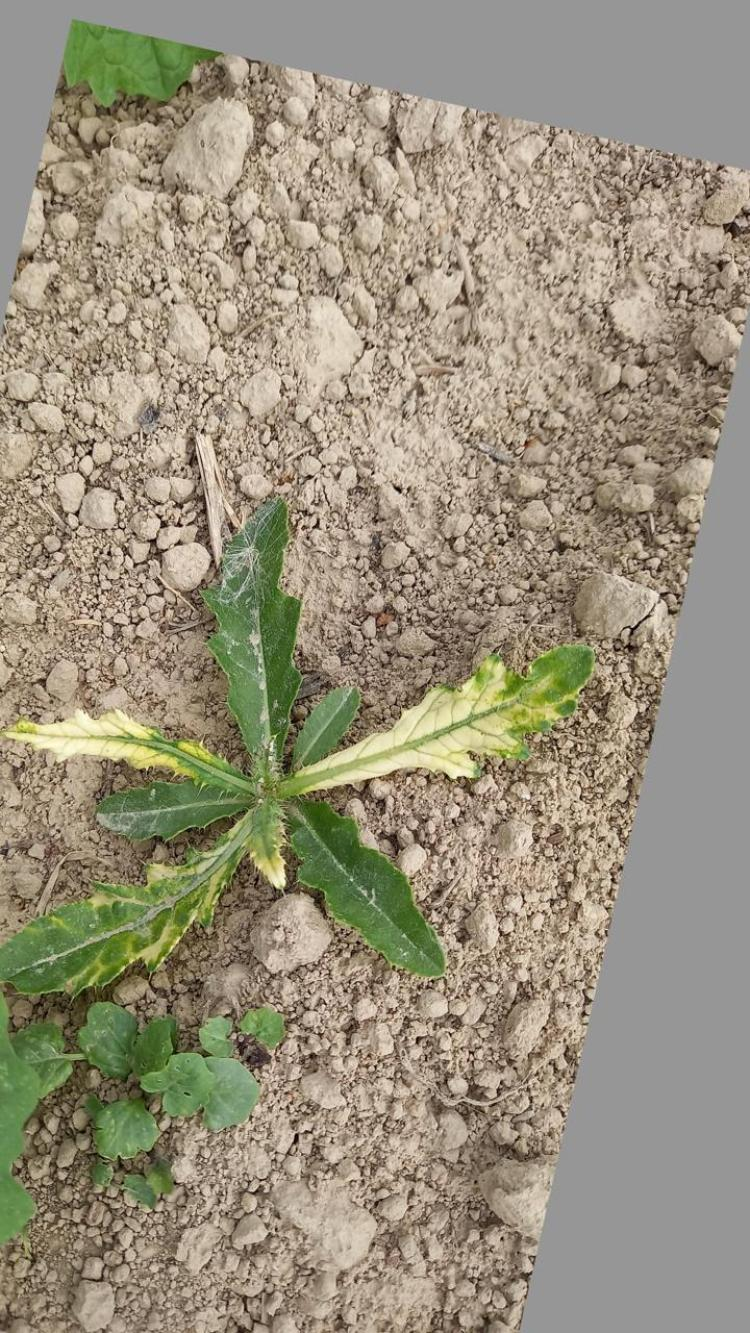bodyak: (0, 500, 596, 1000)
